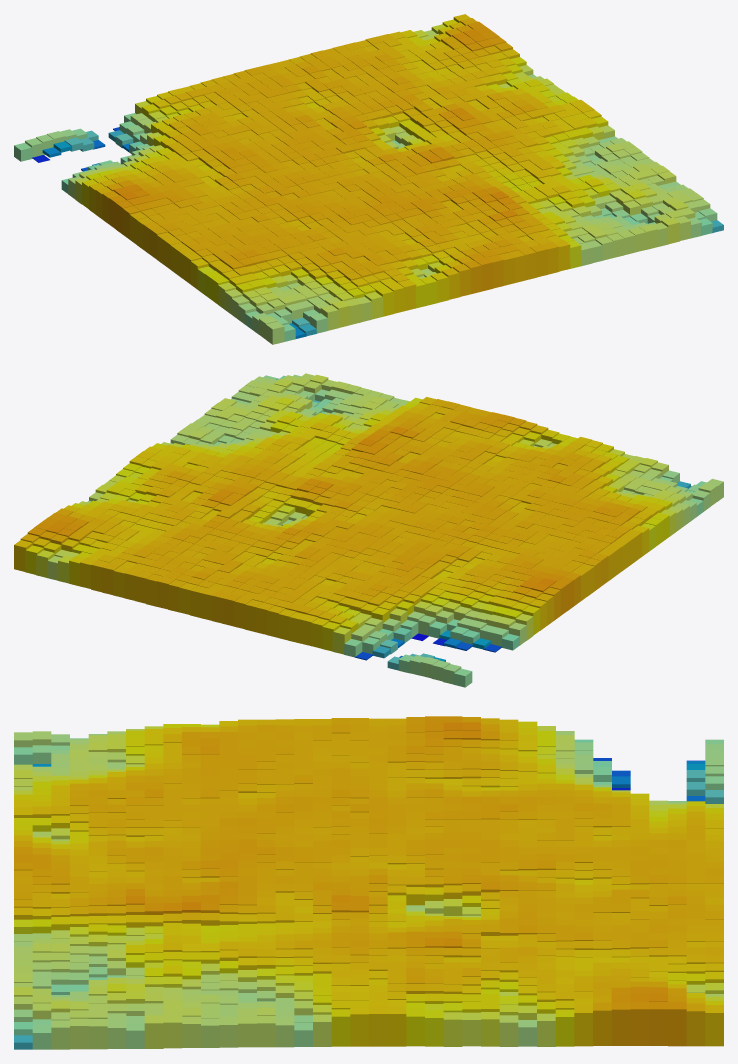
File: population.glb
3 renders of one model, top to bottom at view 1: azimuth 30°, elevation 25°; view 2: azimuth 150°, elevation 25°; view 3: azimuth 270°, elevation 25°, orthographic. The views are drawn at different scales.
Parts seen in each view (by area): view 1: population; view 2: population; view 3: population.
Boxes of the visible parts, left/top/right/bottom form: population: left=14, top=14, right=723, bottom=344; population: left=14, top=373, right=723, bottom=687; population: left=14, top=716, right=723, bottom=1049.
Size of the model in its own units: 3810 by 285 by 3781.
